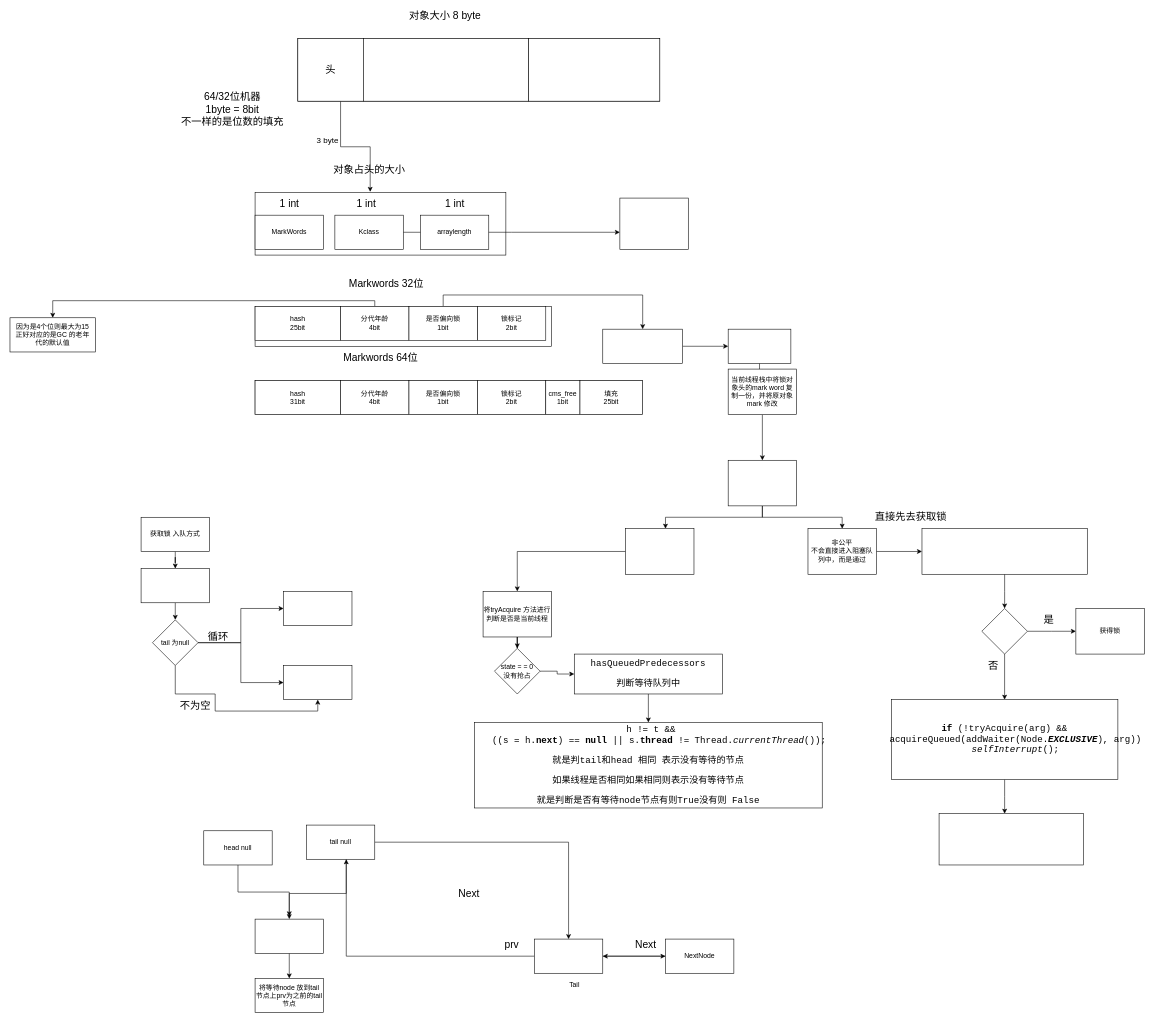
This 1154x1023 diagram has some shape labels left out. Here are the shapes that lost their labels. From the top down, the box of each, then its label:
(363, 38, 529, 101): instanceData
(528, 38, 660, 101): 填充段
(619, 198, 688, 249): 指向元数据的指针
(602, 329, 683, 363): 可根据jvm设置将偏向锁关闭。 UseBiasedLocking=false jvm 默认走轻量锁
(728, 329, 791, 363): 轻量锁
(728, 460, 797, 506): cas 的方式
(625, 528, 694, 574): 公平
(921, 528, 1087, 574): compareAndSetState( 0 , 1 )
(141, 568, 209, 603): node
(283, 591, 352, 626): 初始化两个head和tail 为空的node 节点
(981, 608, 1027, 654): 是否成功
(283, 665, 352, 700): 然后将tail替换成现在获取锁未成功的节点
(939, 813, 1083, 865): 不成功则进入等待队列
(255, 919, 323, 953): 判断为null 初始化两个节点为 node
(534, 939, 603, 973): 需要 等待的Node
